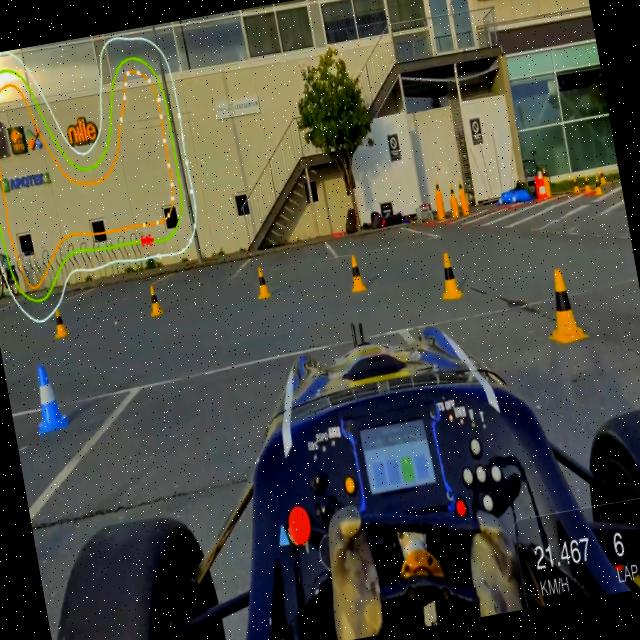blue_cone: (23, 358, 72, 438)
large_orange_cone: (533, 166, 548, 198)
yellow_cone: (535, 261, 592, 348), (431, 247, 465, 304), (344, 250, 368, 296), (251, 262, 274, 302), (144, 281, 166, 319), (50, 308, 68, 342), (581, 173, 592, 196), (598, 165, 608, 188), (592, 172, 602, 194), (570, 176, 580, 196), (432, 180, 442, 198), (448, 184, 456, 199), (457, 179, 463, 192)
